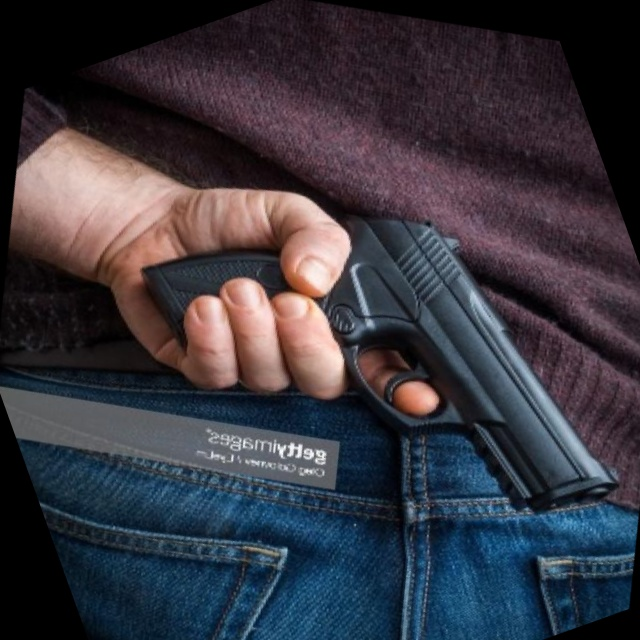gun: (40, 28, 640, 640)
